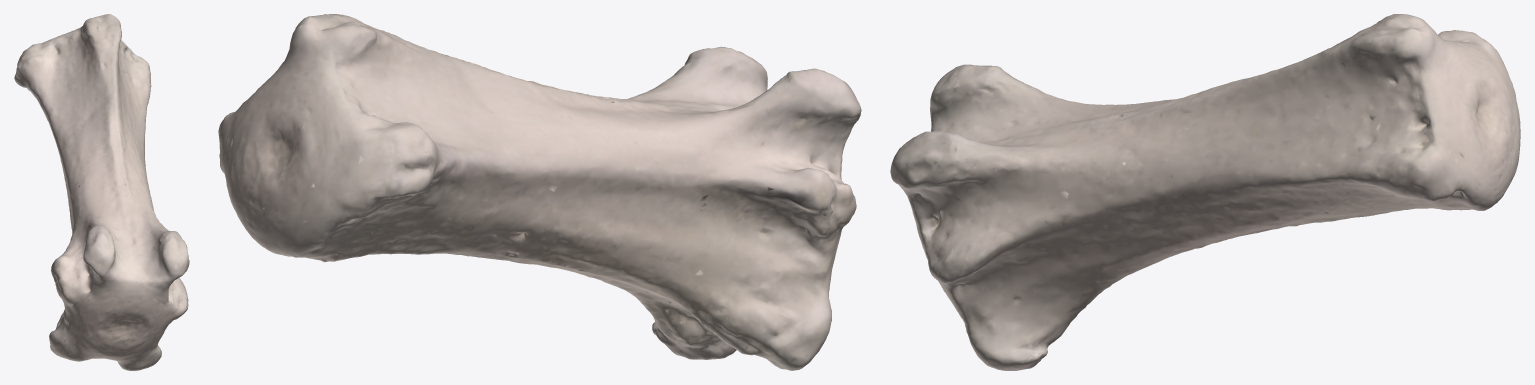
3 views of the same model, side by side, from view 1: azimuth 30°, elevation 25°; view 2: azimuth 150°, elevation 25°; view 3: azimuth 270°, elevation 25° (orthographic). The views are drawn at different scales.
Parts seen in each view (by area): view 1: 10.SW_Hund.001; view 2: 10.SW_Hund.001; view 3: 10.SW_Hund.001.
Boxes of the visible parts, <box> form: 10.SW_Hund.001: <box>14,14,189,370</box>; 10.SW_Hund.001: <box>218,14,861,370</box>; 10.SW_Hund.001: <box>890,14,1520,370</box>.
Bounding box in the file's own units: 1755 × 1928 × 2672.
Materials: 1 (1 with a texture image).
